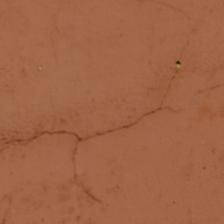Crack: (1, 23, 181, 153), (12, 5, 77, 93), (87, 50, 224, 84)
